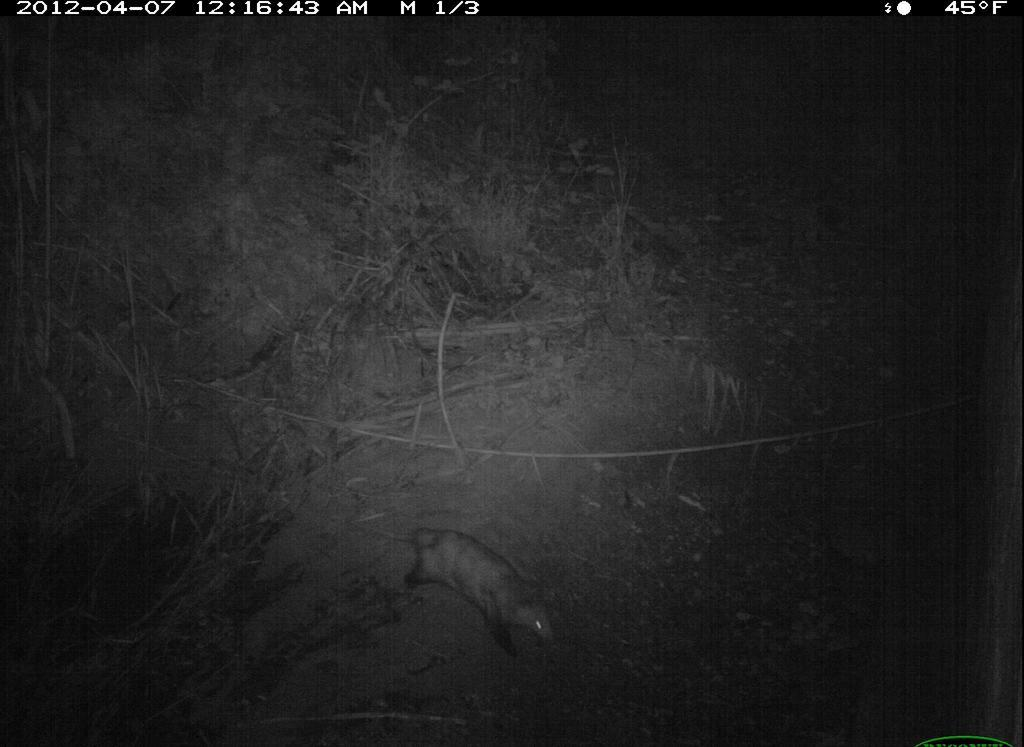opossum: (367, 510, 560, 664)
